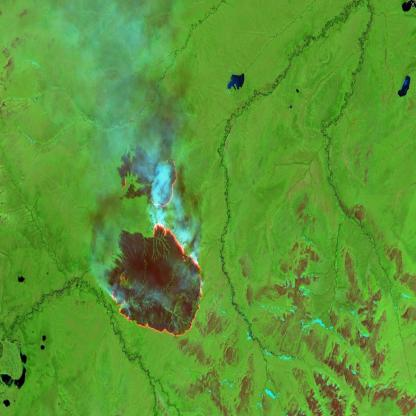fire: (109, 218, 205, 341), (146, 156, 177, 210), (115, 173, 130, 194)
